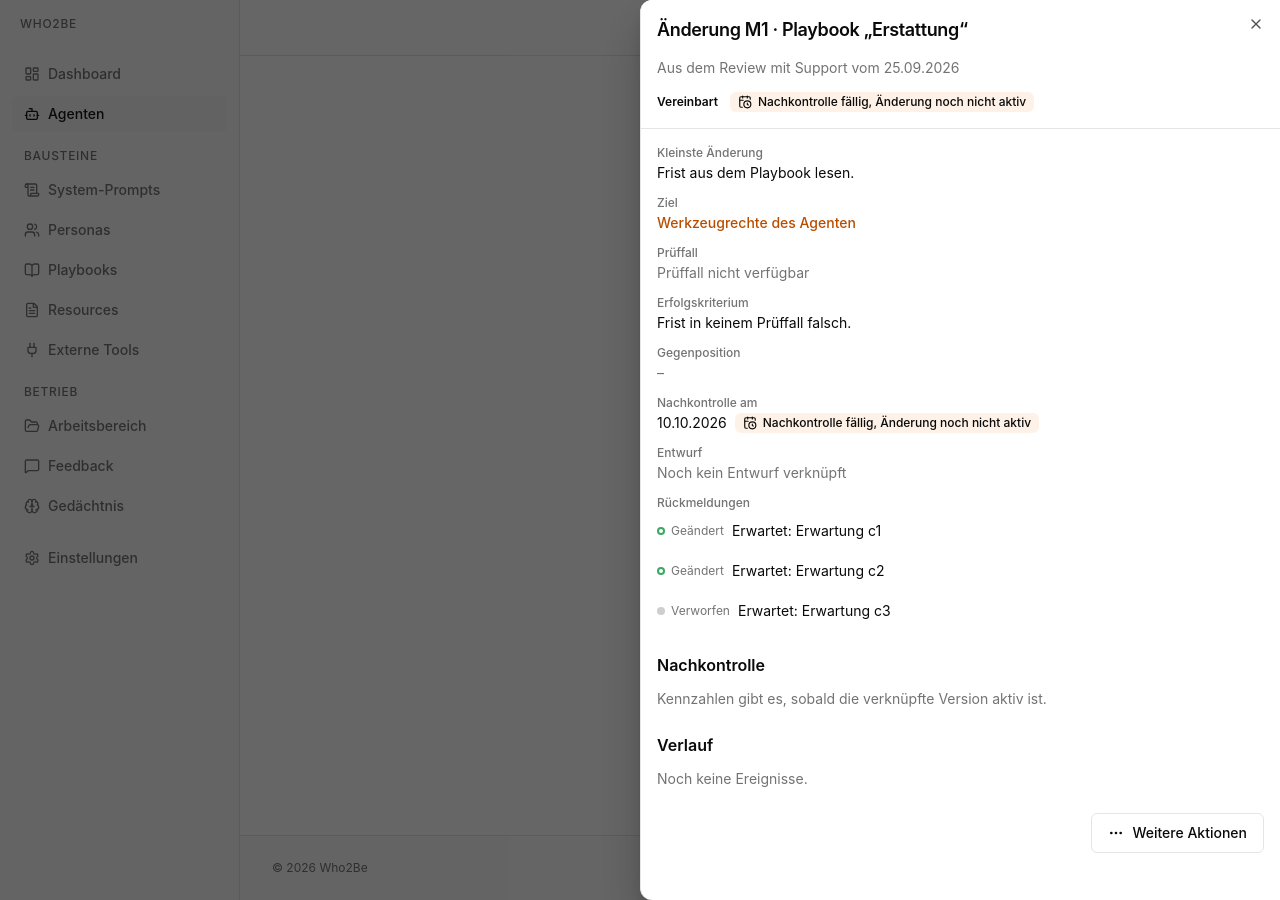
Test case: ChangeActions: Leiste je Zustand › Vereinbart, Ziel ohne Versionen (tool_policy), noch nicht fällig: keine brand, Hinweis im Menü
This screenshot has width=1280, height=900.
Press the mouse on the button with test id "change-more" at (1178, 833), box [1091, 813, 1264, 853]
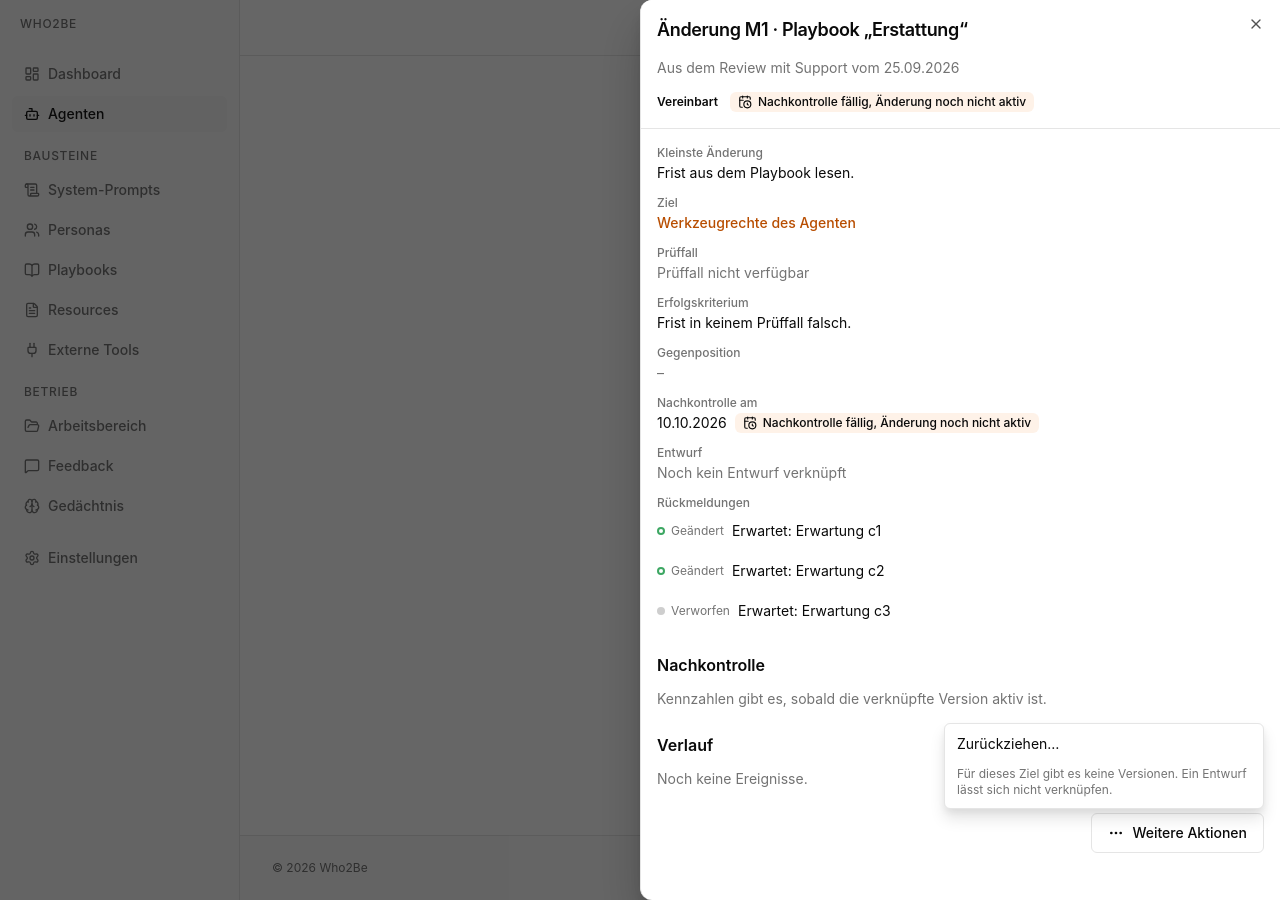
Now the text with test id "change-no-versions" shows "Für dieses Ziel gibt es keine Versionen. Ein Entwurf lässt sich nicht verknüpfen.", box [957, 766, 1247, 797]
Now the menu item "Zurückziehen…" is shown, box [957, 735, 1059, 752]
